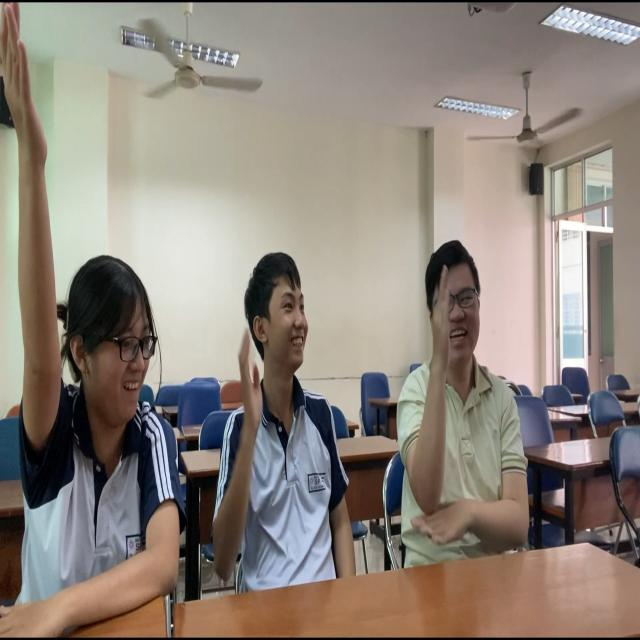raise_hand: (1, 1, 166, 640), (204, 235, 369, 608), (397, 211, 532, 585)
